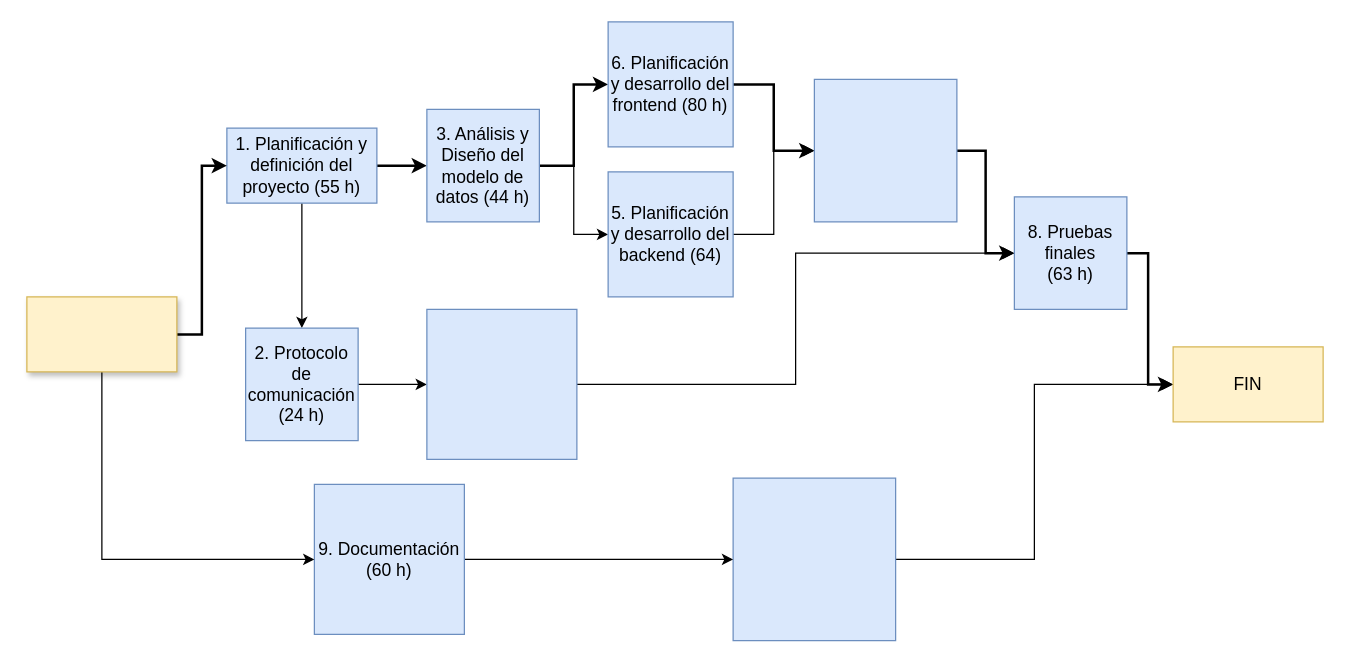
Some shapes in this 1345 by 663 pixel diagram are drawn without their labels. Here are the shapes that lost their labels. From the top down, the centre of each, then its label:
point (885, 150): 7. Diseño e implementación de un sistema de acceso al software (68 h)
point (102, 336): INICIO
point (501, 383): 4. Diseño e implementación del nodo y mediciones simuladas (76 h)
point (814, 559): 10. Actividades de cierre (80 h)
